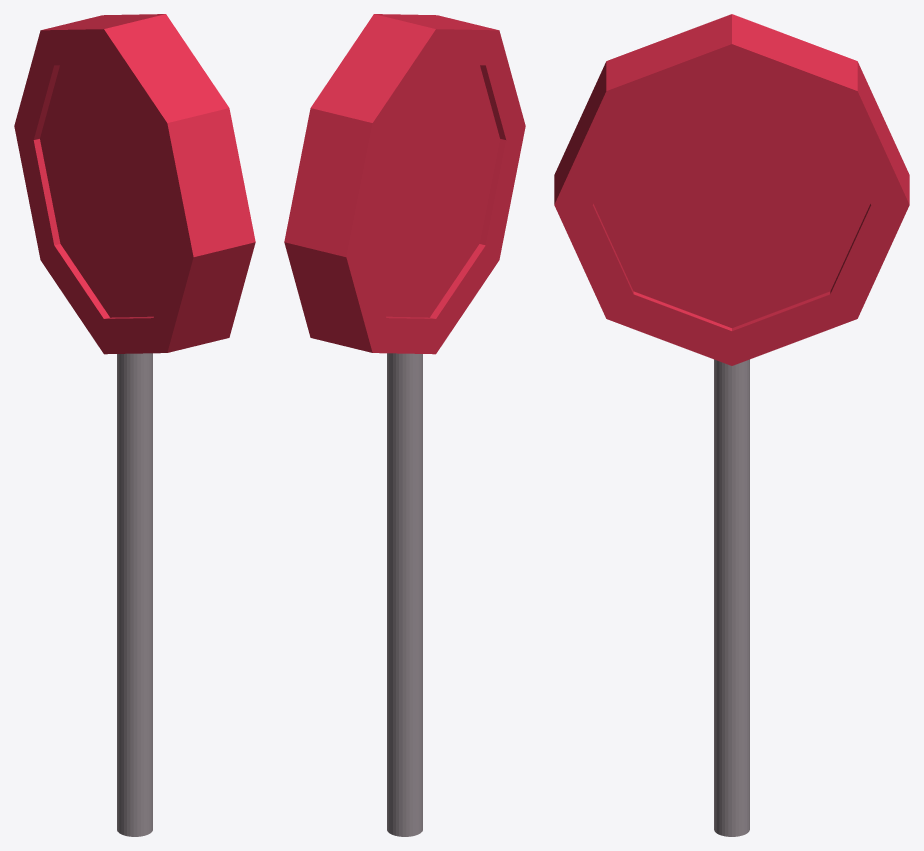
The model's file is Lab8.fbx.
3 renders of one model, left to right at view 1: azimuth 30°, elevation 25°; view 2: azimuth 150°, elevation 25°; view 3: azimuth 270°, elevation 25°, orthographic.
Parts seen in each view (by area): view 1: Cylinder; view 2: Cylinder; view 3: Cylinder.
Part boxes in pixels (x1,y1,x2,y2): Cylinder: (14, 14, 255, 836); Cylinder: (284, 14, 525, 836); Cylinder: (554, 14, 909, 836).
Bounding box in the file's own units: 10 × 124 × 50.
